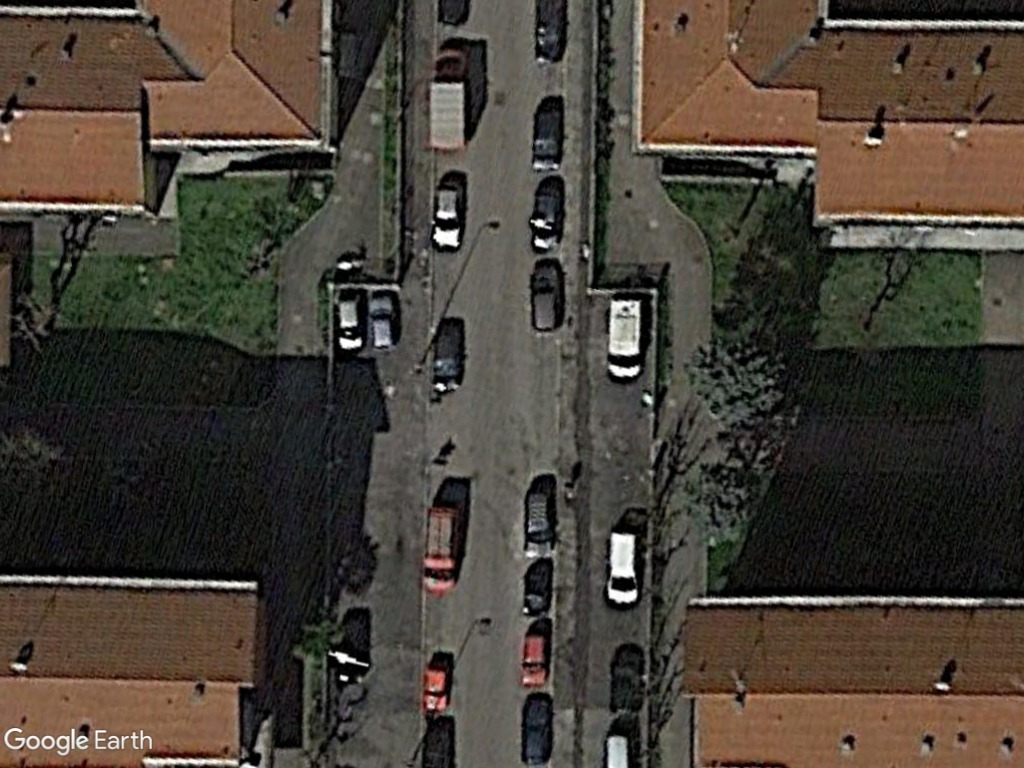car: (432, 179, 468, 255), (363, 289, 398, 356), (334, 292, 366, 354)
truck: (427, 46, 476, 152), (419, 501, 467, 599)
van: (602, 292, 648, 384), (602, 528, 645, 612)
